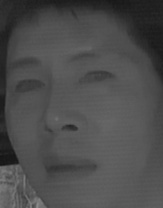eye: (77, 68, 116, 90), (10, 79, 47, 97)
mouth: (39, 149, 100, 183)
